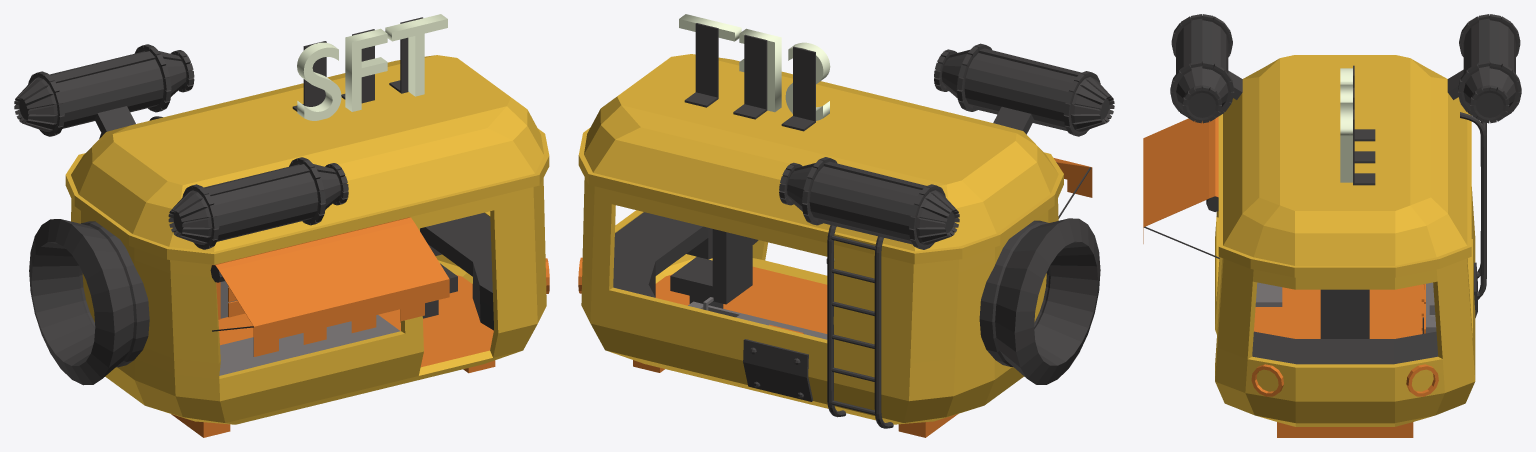
The model's file is Nave 1.fbx.
3 renders of one model, left to right at view 1: azimuth 30°, elevation 25°; view 2: azimuth 150°, elevation 25°; view 3: azimuth 270°, elevation 25°, orthographic. The views are drawn at different scales.
Parts seen in each view (by area): view 1: Techo, Nave, Cylinder, Cube.004, Cylinder.002, Text, Piso, Nave.004, Nave.002, Cube, Cube.001, Cylinder.001 (+1 smaller); view 2: Techo, Nave, Cylinder, Cylinder.002, Cube, Nave.004, Piso, Cube.010, Text, Nave.001, Cube.006, Cube.007 (+4 smaller); view 3: Techo, Nave, Cylinder, Cube.004, Piso, Nave.004, Cube.010, Cube.001, Text, Cube.006, Cube, Torus (+3 smaller).
Part boxes in pixels (<box>): Techo: <box>65,55,549,264</box>; Nave: <box>71,178,546,424</box>; Cylinder: <box>14,44,348,249</box>; Cube.004: <box>211,217,449,356</box>; Cylinder.002: <box>29,219,149,385</box>; Text: <box>297,14,447,120</box>; Piso: <box>218,275,493,367</box>; Nave.004: <box>420,213,493,330</box>; Nave.002: <box>220,315,400,369</box>; Cube: <box>292,17,422,111</box>; Cube.001: <box>171,360,495,437</box>; Cylinder.001: <box>94,106,135,134</box>; Techo: <box>578,54,1063,264</box>; Nave: <box>581,177,1058,424</box>; Cylinder: <box>779,43,1114,249</box>; Cylinder.002: <box>979,218,1100,384</box>; Cube: <box>684,23,815,131</box>; Nave.004: <box>613,212,758,297</box>; Piso: <box>655,266,827,333</box>; Cube.010: <box>670,229,752,308</box>; Text: <box>679,14,830,120</box>; Nave.001: <box>743,339,813,401</box>; Cube.006: <box>827,225,893,428</box>; Cube.007: <box>830,235,876,414</box>; Techo: <box>1218,55,1471,277</box>; Nave: <box>1215,187,1475,426</box>; Cylinder: <box>1170,14,1521,123</box>; Cube.004: <box>1143,116,1218,243</box>; Piso: <box>1254,284,1423,338</box>; Nave.004: <box>1252,331,1438,364</box>; Cube.010: <box>1320,289,1369,338</box>; Cube.001: <box>1277,422,1413,437</box>; Text: <box>1340,68,1352,182</box>; Cube.006: <box>1460,112,1486,299</box>; Cube: <box>1353,65,1375,185</box>; Torus: <box>1251,364,1438,396</box>.
Size of the model in its own units: 252 by 173 by 195.
